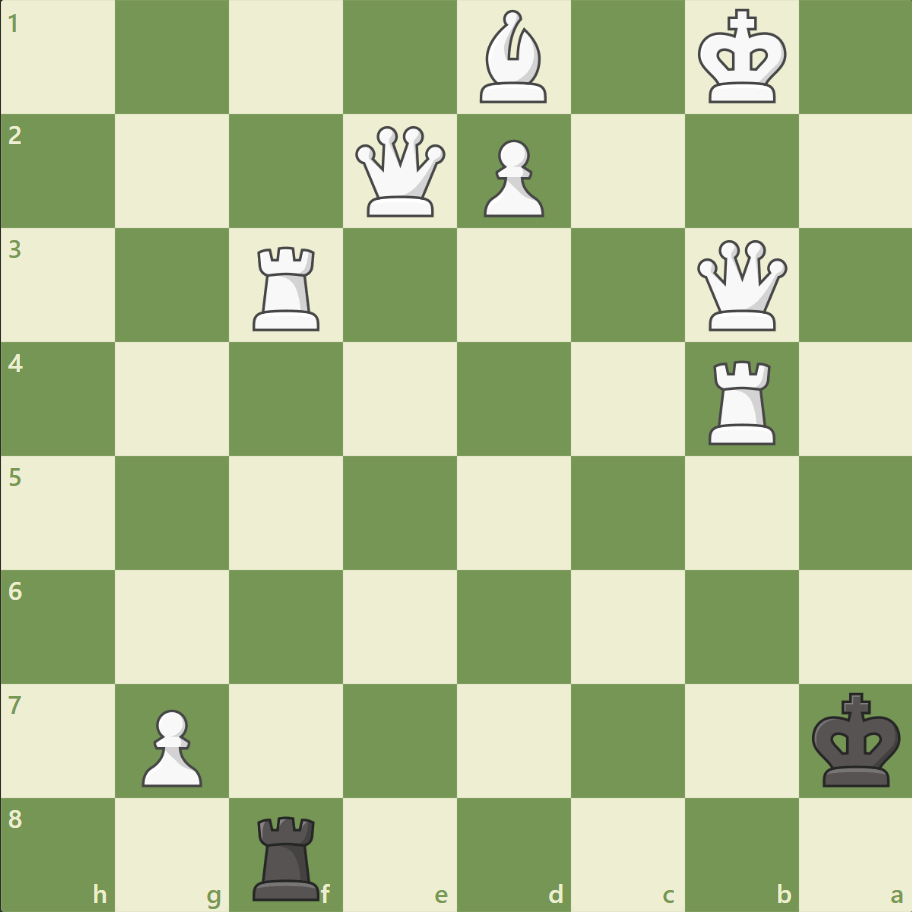B: (471, 6, 555, 109)
K: (692, 4, 792, 112)
P: (133, 700, 208, 791), (474, 132, 549, 223)
Q: (351, 122, 450, 222), (691, 236, 790, 335)
R: (700, 352, 783, 449), (246, 239, 329, 336)
k: (806, 685, 906, 793)
r: (246, 806, 329, 904)
